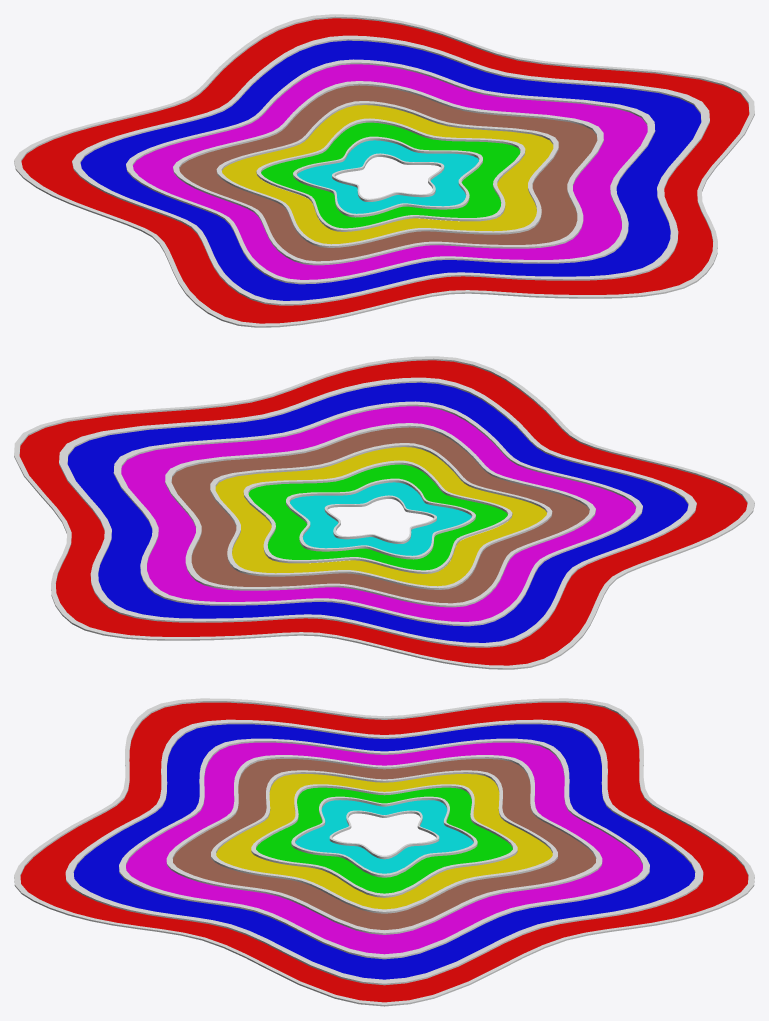
File: san_3.fbx
3 renders of one model, top to bottom at view 1: azimuth 30°, elevation 25°; view 2: azimuth 150°, elevation 25°; view 3: azimuth 270°, elevation 25°, orthographic.
Visible parts, largest first — view 1: polySurface1554, polySurface1553, polySurface1549, polySurface1552, polySurface1551, polySurface1550, polySurface1555; view 2: polySurface1554, polySurface1553, polySurface1549, polySurface1552, polySurface1551, polySurface1550, polySurface1555; view 3: polySurface1554, polySurface1553, polySurface1549, polySurface1552, polySurface1551, polySurface1550, polySurface1555.
Boxes of the visible parts, left/top/right/bottom form: polySurface1554: left=14, top=14, right=754, bottom=327; polySurface1553: left=72, top=35, right=709, bottom=305; polySurface1549: left=126, top=59, right=655, bottom=284; polySurface1552: left=173, top=81, right=603, bottom=265; polySurface1551: left=216, top=101, right=558, bottom=247; polySurface1550: left=256, top=118, right=525, bottom=231; polySurface1555: left=293, top=136, right=482, bottom=217; polySurface1554: left=14, top=356, right=754, bottom=669; polySurface1553: left=59, top=377, right=696, bottom=647; polySurface1549: left=113, top=401, right=642, bottom=626; polySurface1552: left=165, top=423, right=595, bottom=607; polySurface1551: left=210, top=443, right=552, bottom=589; polySurface1550: left=243, top=460, right=512, bottom=573; polySurface1555: left=286, top=478, right=475, bottom=559; polySurface1554: left=14, top=698, right=754, bottom=1006; polySurface1553: left=65, top=719, right=703, bottom=985; polySurface1549: left=119, top=738, right=649, bottom=959; polySurface1552: left=166, top=755, right=602, bottom=934; polySurface1551: left=211, top=770, right=557, bottom=913; polySurface1550: left=251, top=784, right=517, bottom=897; polySurface1555: left=291, top=796, right=477, bottom=877.
Size of the model in its own units: 135 by 0.4846 by 138.
